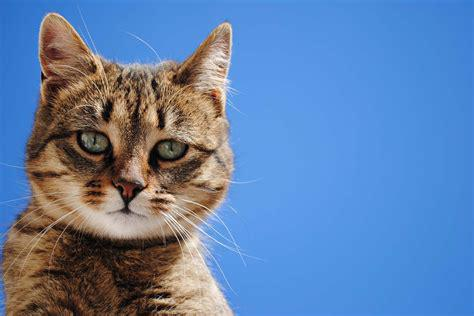cat: (2, 12, 234, 316)
